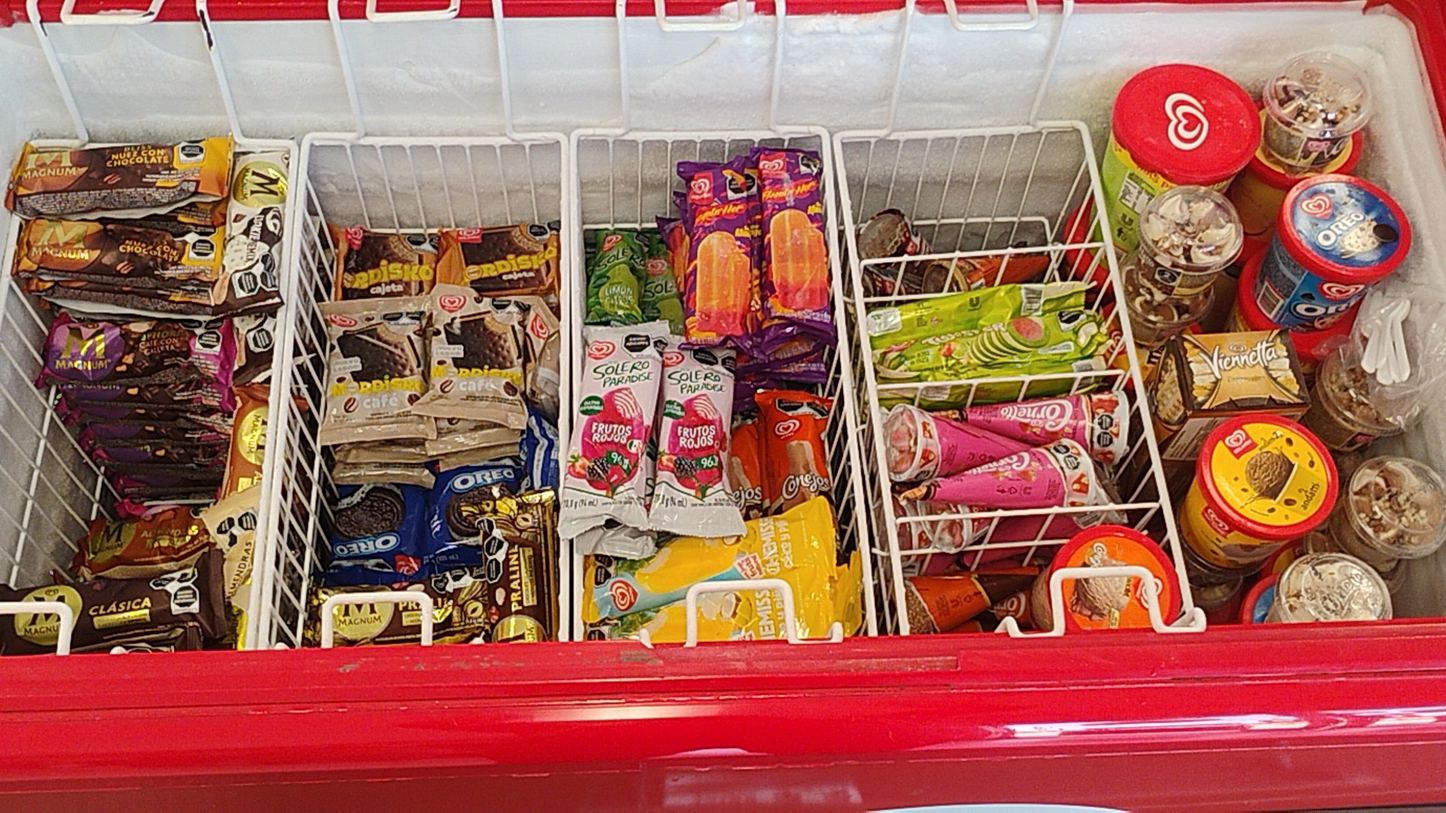Magnum clasica: (2, 576, 221, 638)
Oreo Mordizco: (320, 484, 422, 574), (438, 467, 511, 566)
